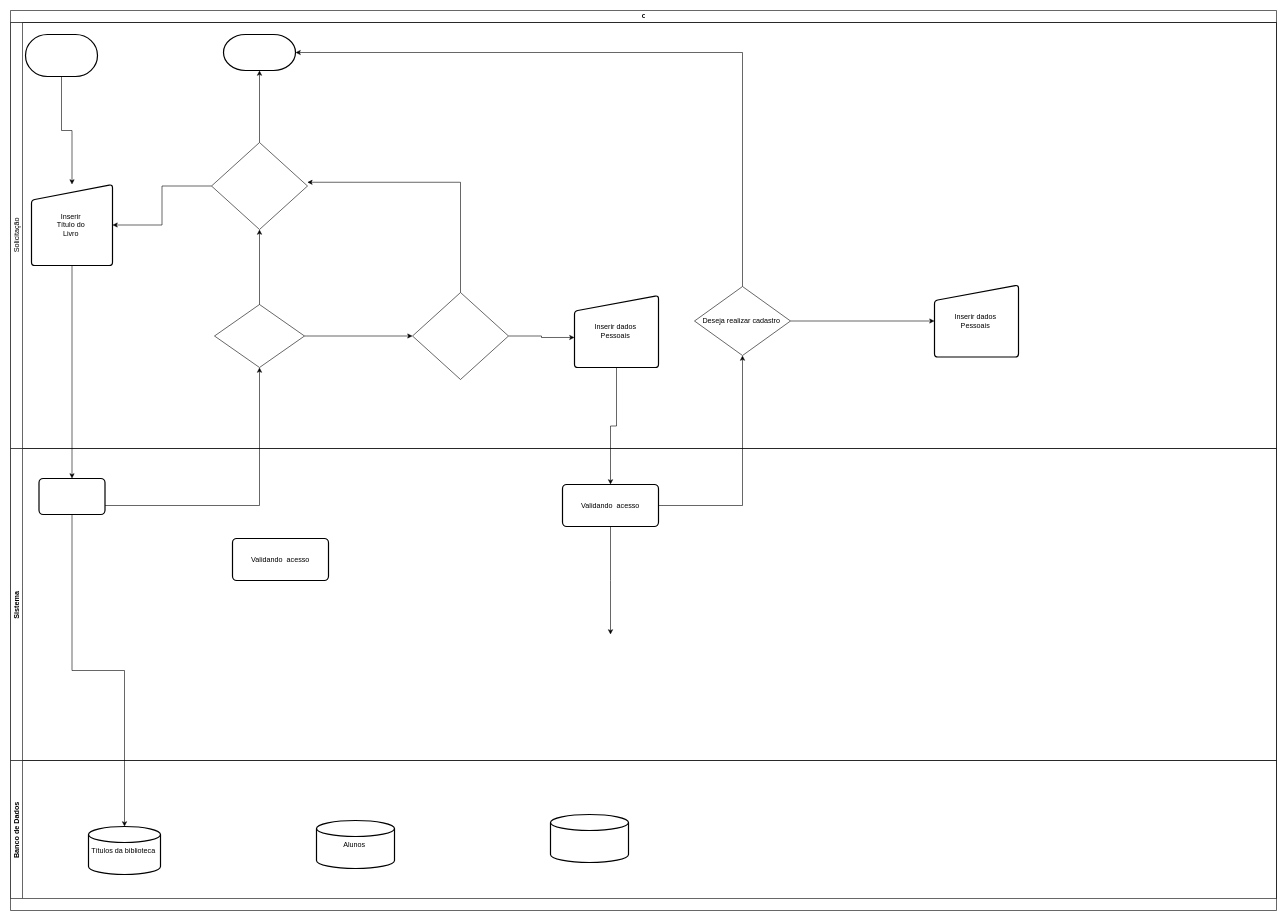
This 1287x921 diagram has some shape labels left out. Here are the shapes that lost their labels. From the top down, the centre of each, then its label:
(61,55): INÍCIO
(259,52): FIM!
(259,186): Nova operação?
(259,336): Alugar livro?
(460,336): Você é aluno?
(71,496): Realiza a Consulta
